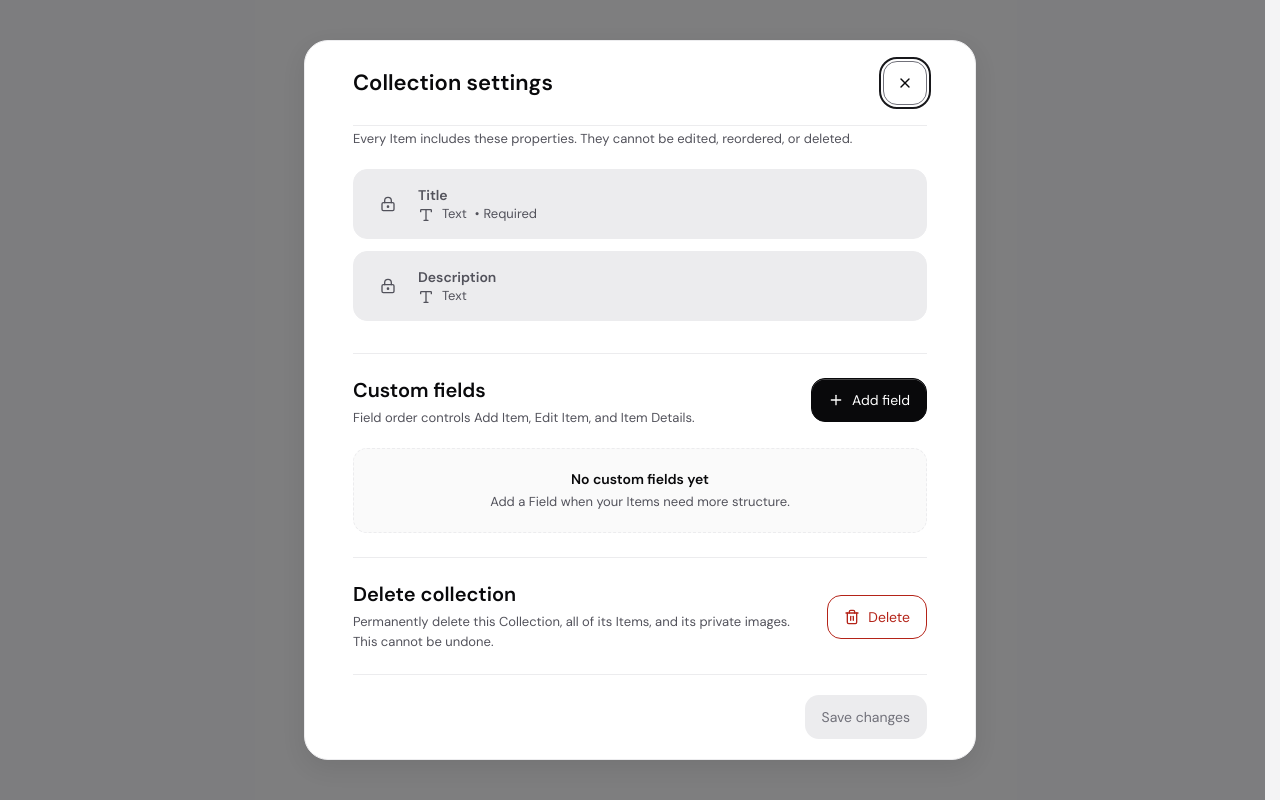
Test: Collection Settings Add Field step › blocks Back and dismissal while saving and preserves a failed Field draft
(page scrolled)
Click the button "Add field".
click(869, 400)  # box left=811, top=378, right=927, bottom=422
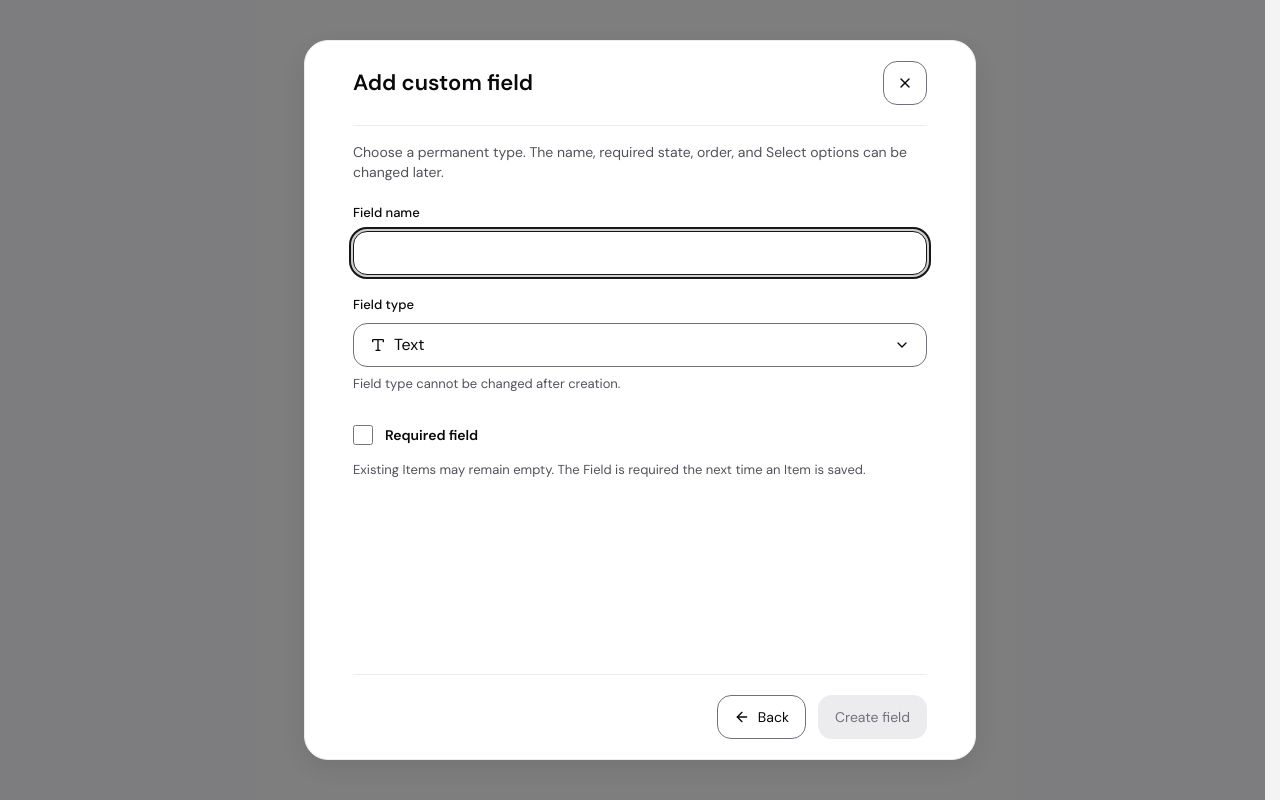
Type "Category" into the field labelled "Field name".
click(640, 253); type("Category")  # box left=353, top=231, right=927, bottom=275
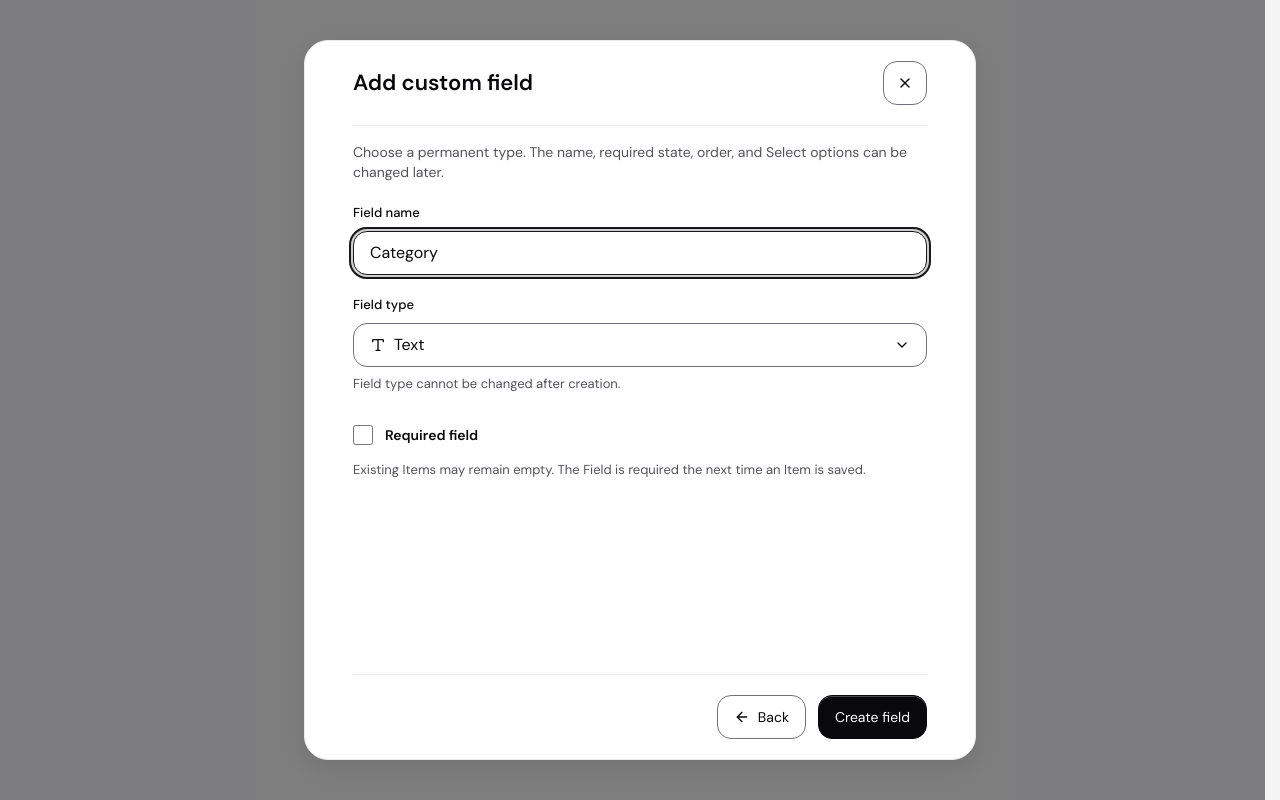
Click the button "Create field".
click(872, 717)  # box left=818, top=695, right=927, bottom=739
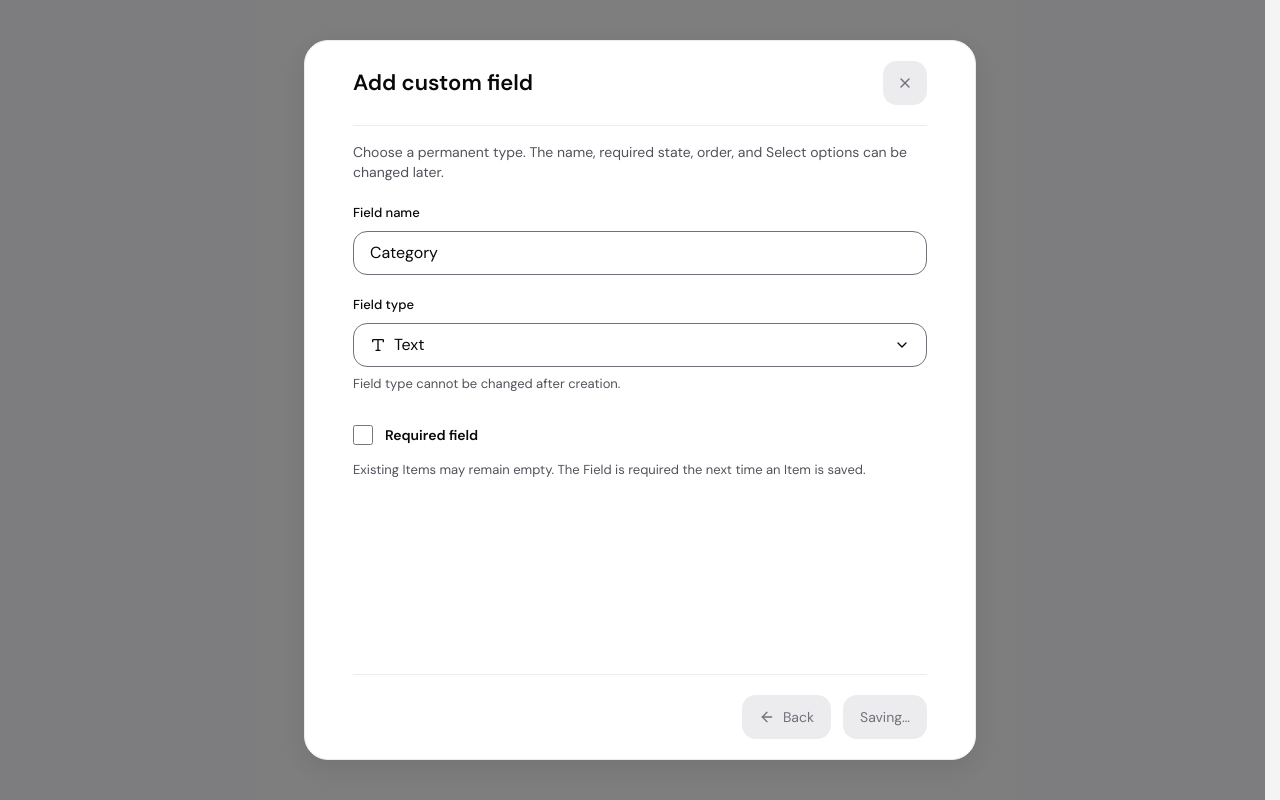
expect the button "Back" is disabled: met, box left=742, top=695, right=831, bottom=739
expect the button named "Close" is disabled: met, box left=883, top=61, right=927, bottom=105
Press Escape
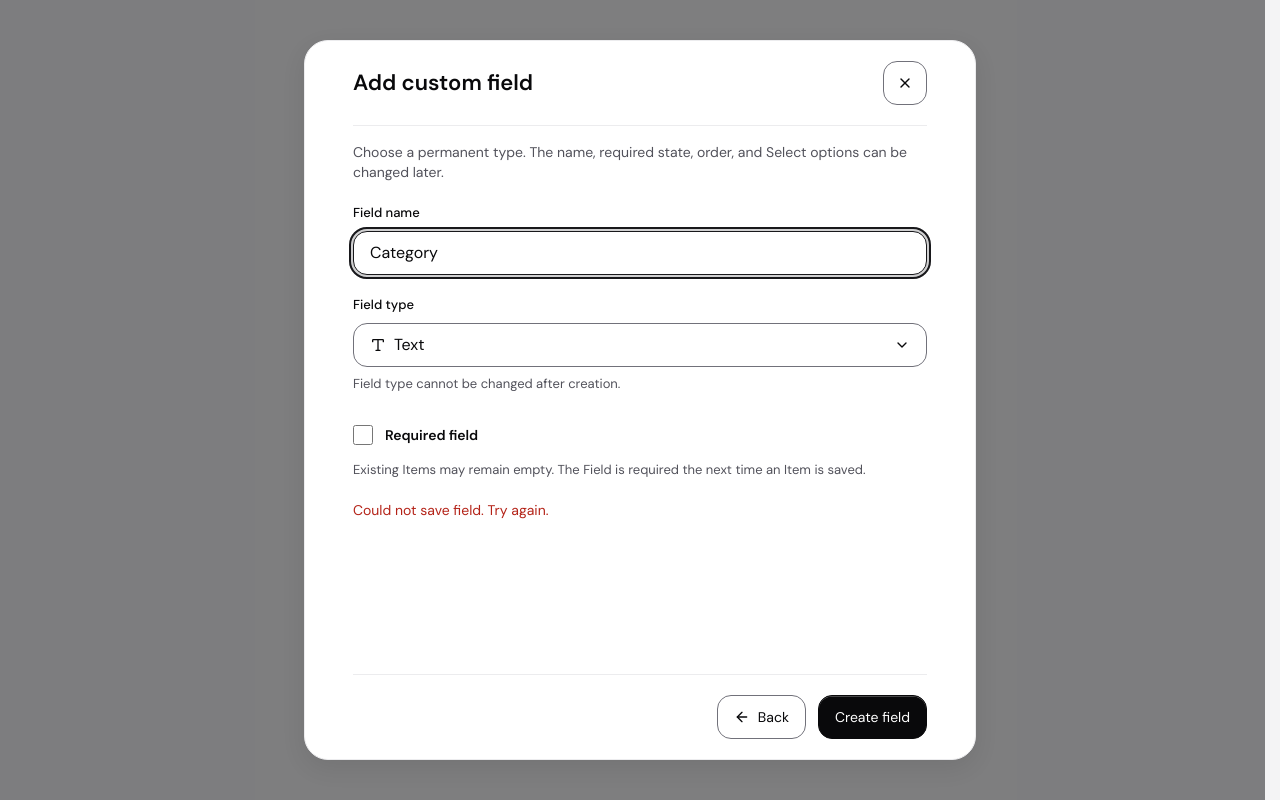
expect the number of dialogs is 1: met, box left=304, top=40, right=976, bottom=760
expect the message "Could not save field. Try again." is shown: met, box left=353, top=501, right=548, bottom=519
Click the button "Back".
click(761, 717)  # box left=717, top=695, right=806, bottom=739
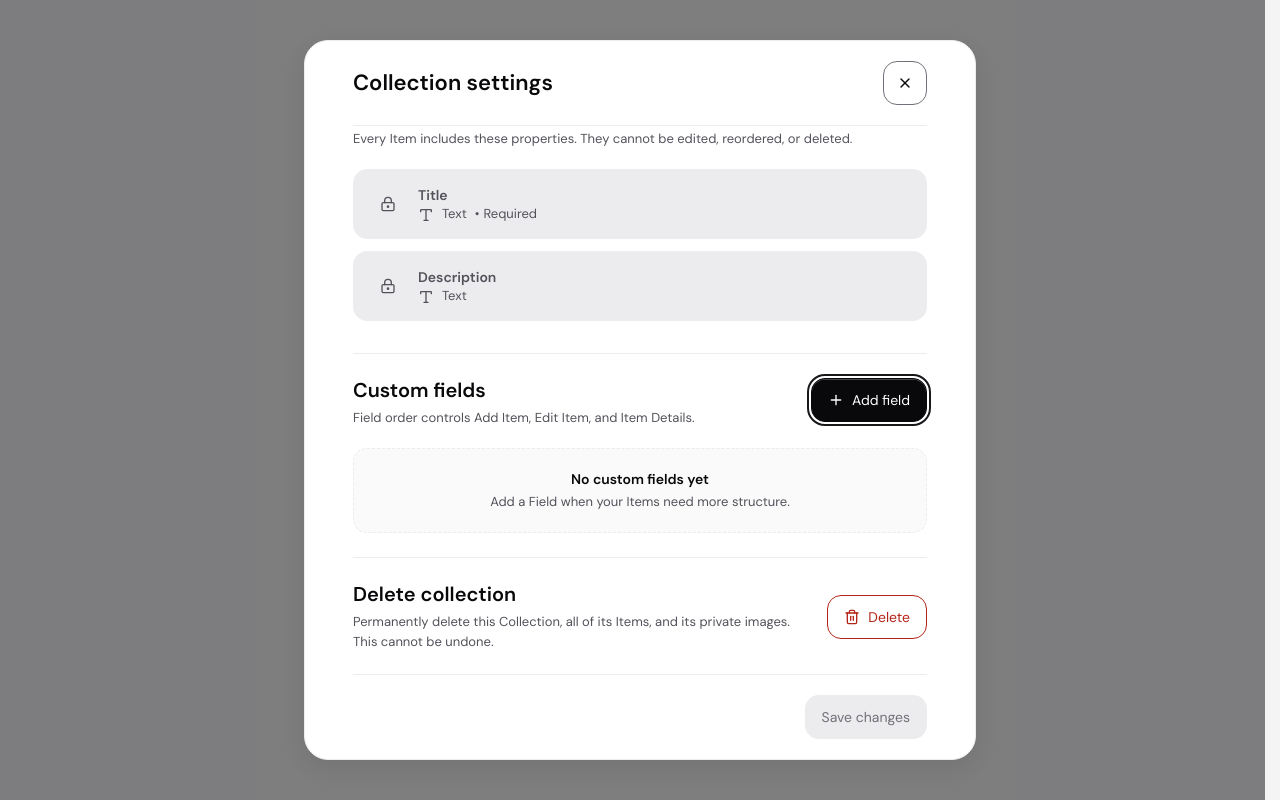
expect the dialog "Collection settings" is shown: met, box left=304, top=40, right=976, bottom=760
